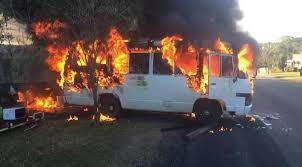fire: (24, 22, 131, 122), (159, 35, 257, 96)
